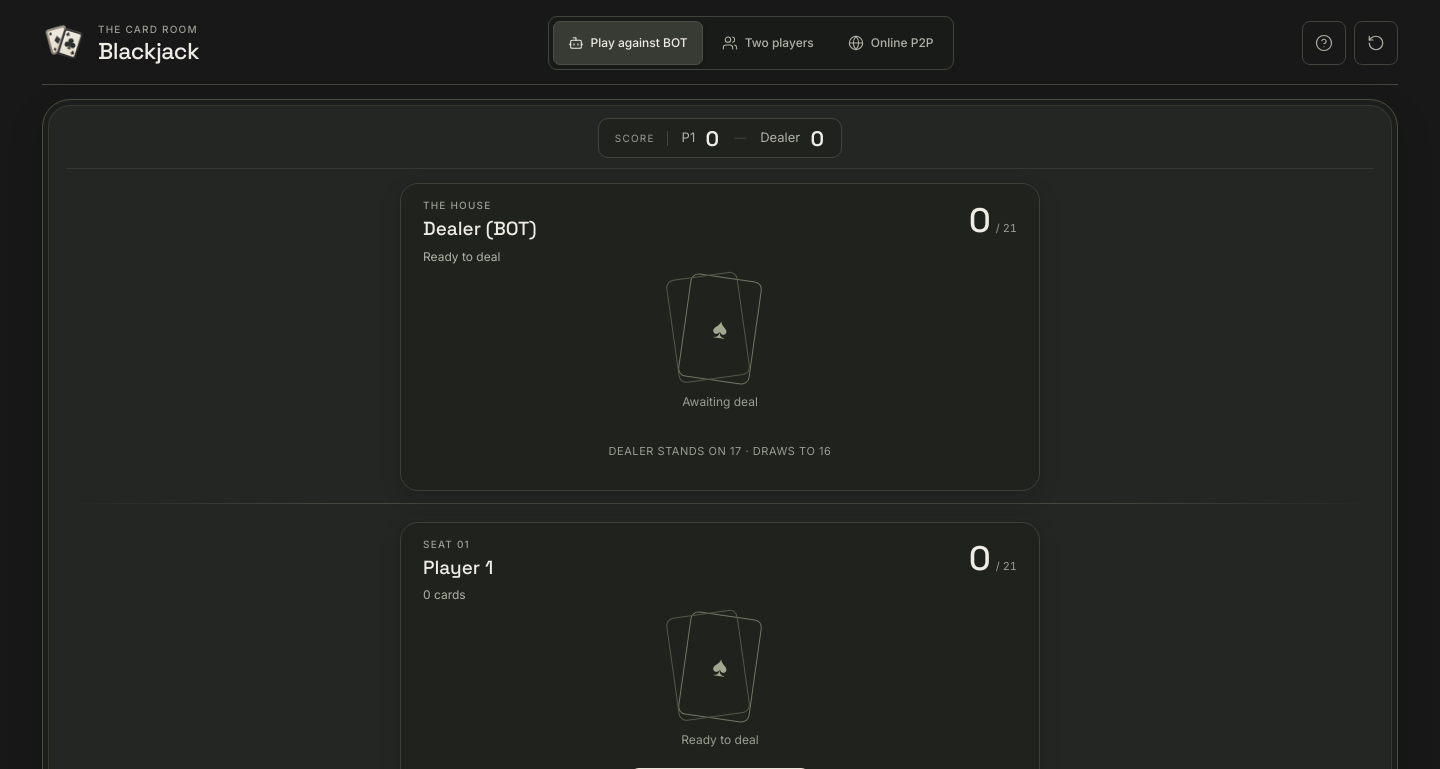
Scenario: Blackjack app shell › supports toggling to Two players mode with both players facing the Dealer
This screenshot has width=1440, height=769.
Click the button "Two players" at [768, 43], box [707,21,829,65]
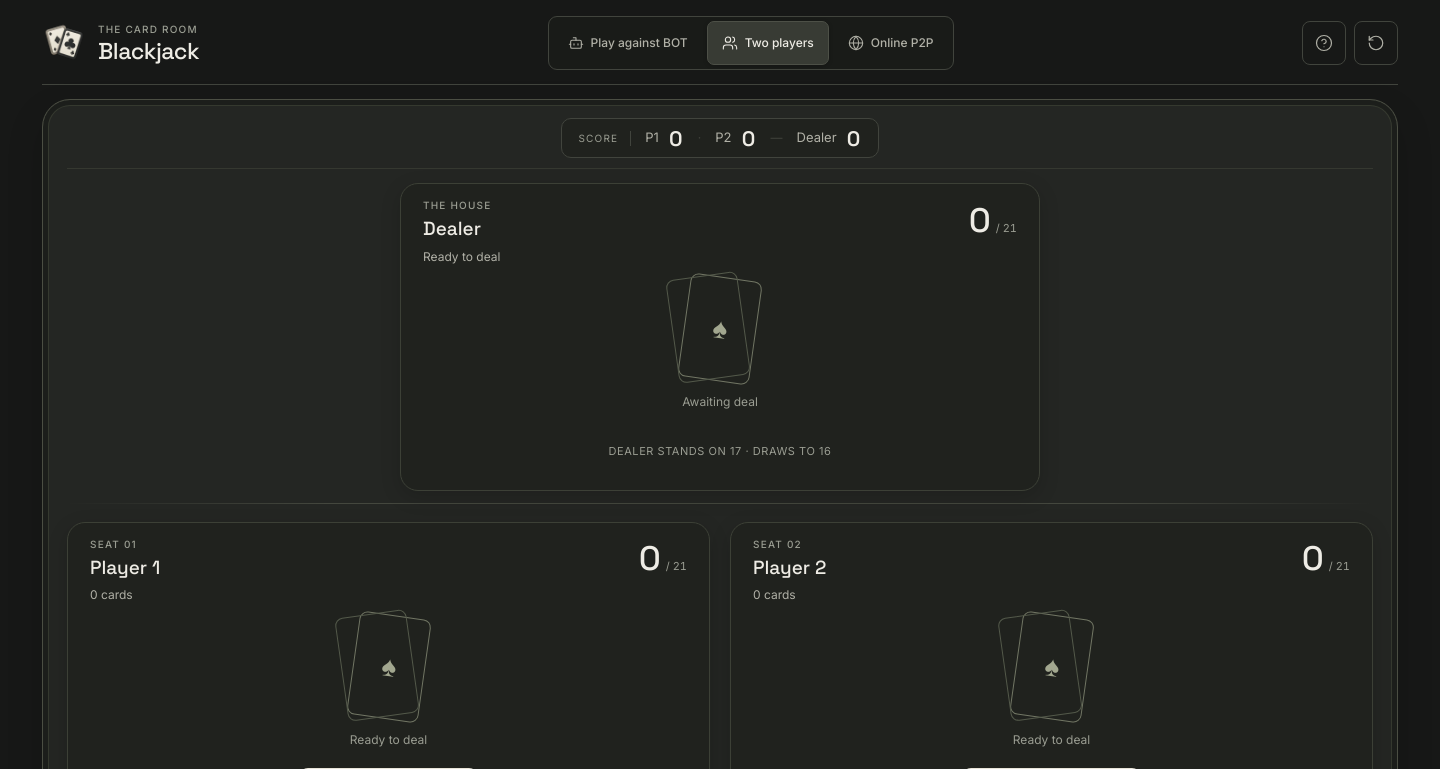
Expected: the heading "Player 1" is shown, [90,554,160,582]
Expected: the heading "Player 2" is shown, [753,554,826,582]
